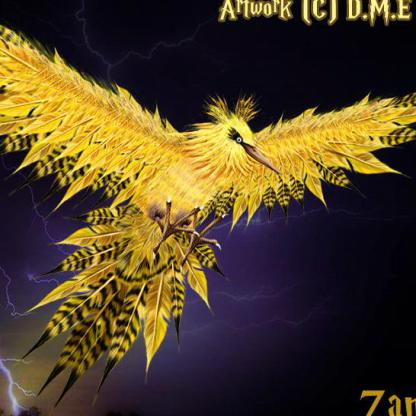Zapdos: (1, 1, 416, 414)
